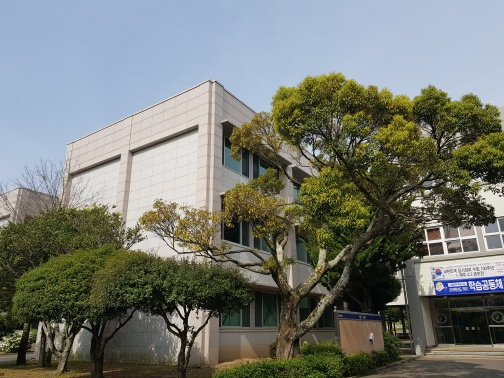College of Nursing: (60, 65, 497, 351)
